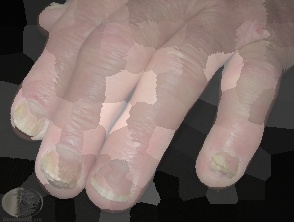Nail_psoriasis: (30, 142, 91, 198), (4, 98, 52, 145), (201, 149, 241, 187)
